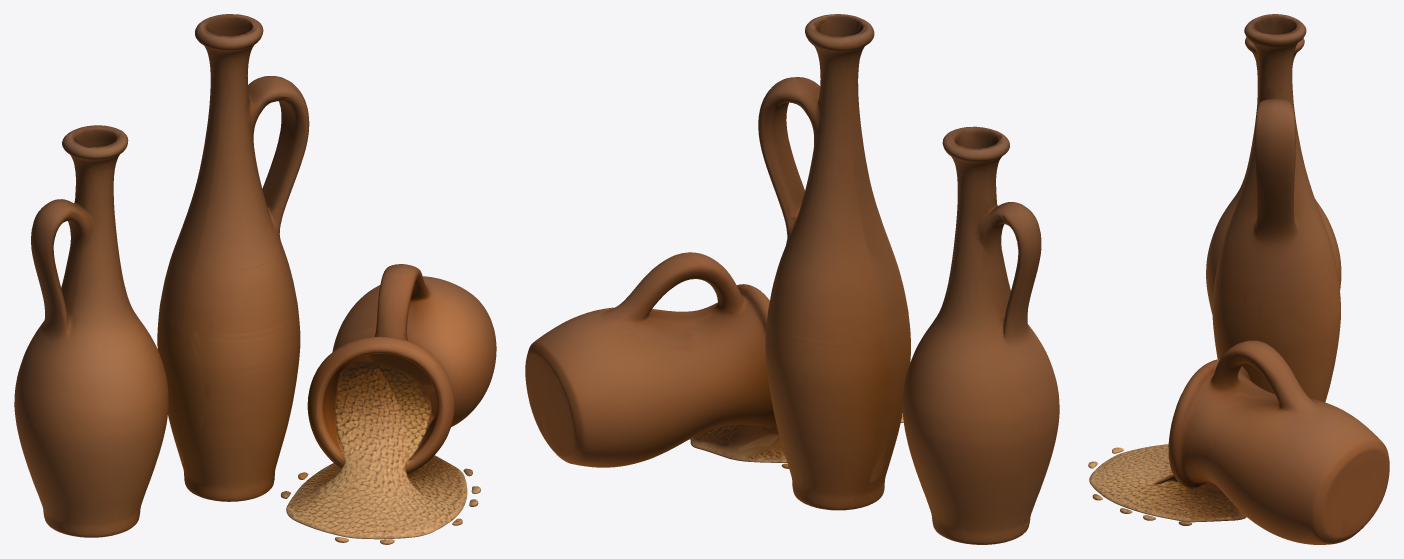
File: grainjars.glb
The picture shows the model from 3 angles, left to right: view 1: azimuth 30°, elevation 25°; view 2: azimuth 150°, elevation 25°; view 3: azimuth 270°, elevation 25°; orthographic projection. The views are drawn at different scales.
Visible parts, largest first — view 1: node_0; view 2: node_0; view 3: node_0.
Part boxes in pixels (x1,y1,x2,y2): node_0: [14, 14, 496, 544]; node_0: [525, 14, 1059, 544]; node_0: [1088, 14, 1389, 544].
Bounding box in the file's own units: 0.9391 × 0.8446 × 0.5501.
1 material, 1 textured.
